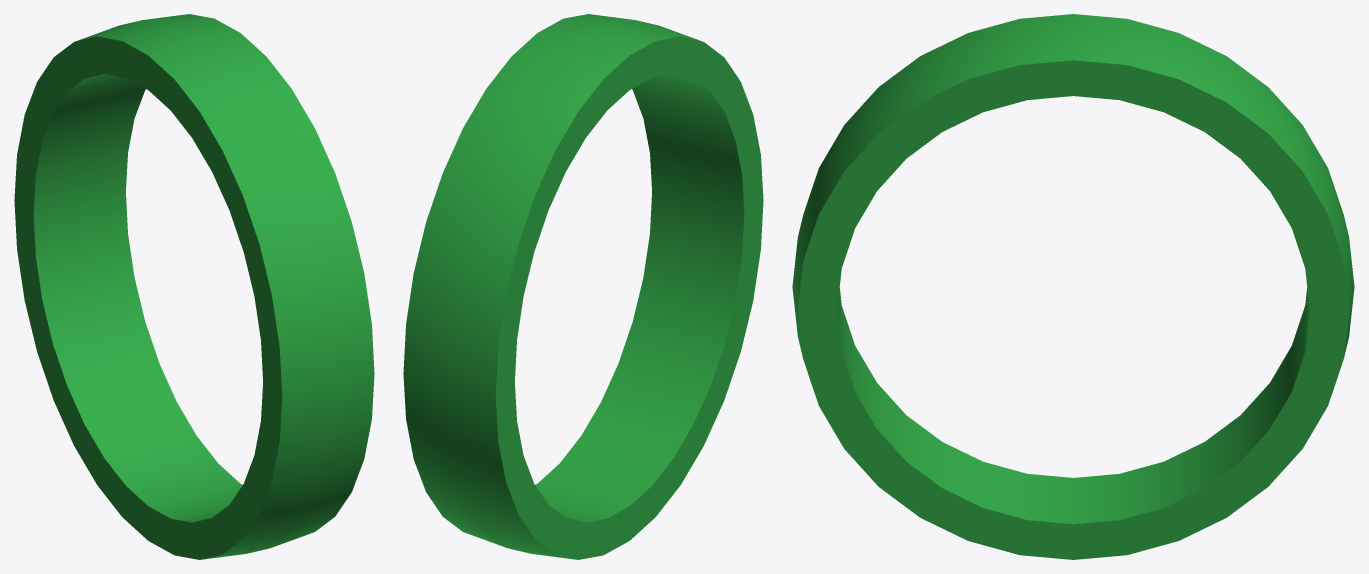
File: Ring.fbx
3 renders of one model, left to right at view 1: azimuth 30°, elevation 25°; view 2: azimuth 150°, elevation 25°; view 3: azimuth 270°, elevation 25°, orthographic. The views are drawn at different scales.
Visible parts, largest first — view 1: Ring; view 2: Ring; view 3: Ring.
Part boxes in pixels (box(x1,y1,x2,y2)): Ring: box(14, 14, 374, 559); Ring: box(403, 14, 763, 559); Ring: box(792, 14, 1354, 559).
Size of the model in its own units: 19.53 by 100 by 100.
